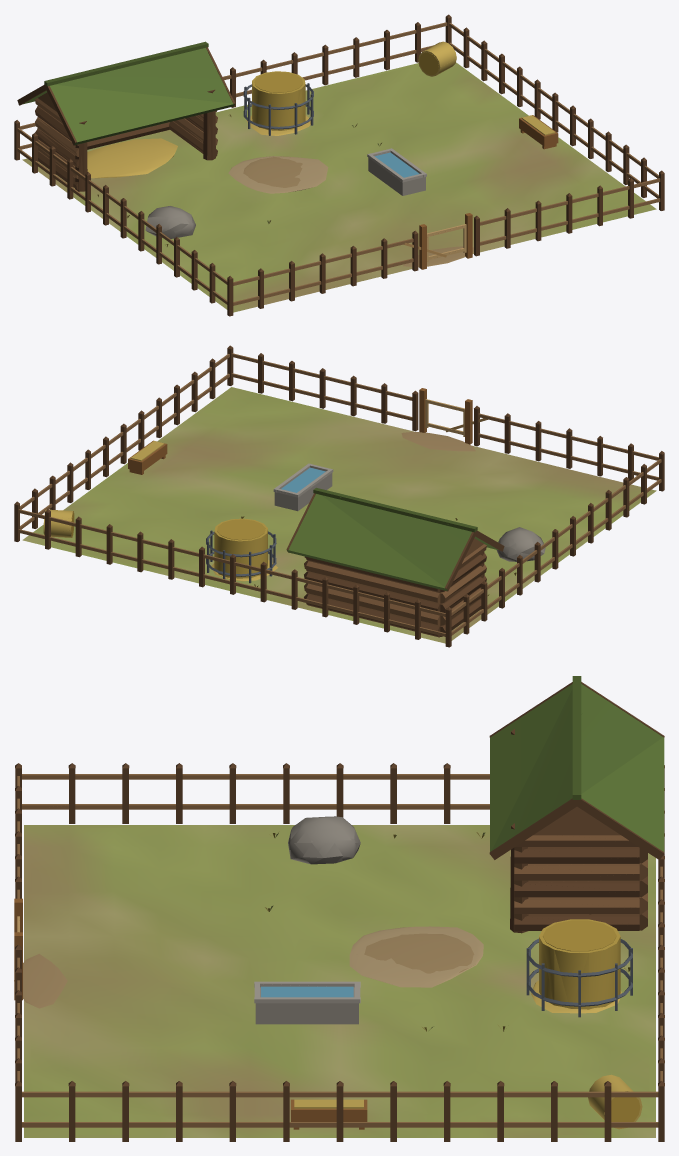
The model's file is bison_range-g2.glb.
3 renders of one model, top to bottom at view 1: azimuth 30°, elevation 25°; view 2: azimuth 150°, elevation 25°; view 3: azimuth 270°, elevation 25°, orthographic. The views are drawn at different scales.
Parts seen in each view (by area): view 1: home-bison_range-g2, home-bison_range-g2-far; view 2: home-bison_range-g2, home-bison_range-g2-far; view 3: home-bison_range-g2, home-bison_range-g2-far.
Boxes of the visible parts, left/top/right/bottom form: home-bison_range-g2: left=14, top=14, right=664, bottom=315; home-bison_range-g2-far: left=22, top=17, right=664, bottom=316; home-bison_range-g2: left=14, top=345, right=664, bottom=647; home-bison_range-g2-far: left=18, top=348, right=656, bottom=643; home-bison_range-g2: left=14, top=676, right=664, bottom=1141; home-bison_range-g2-far: left=14, top=684, right=664, bottom=1137.
Size of the model in its own units: 13.93 by 3.09 by 11.95.
